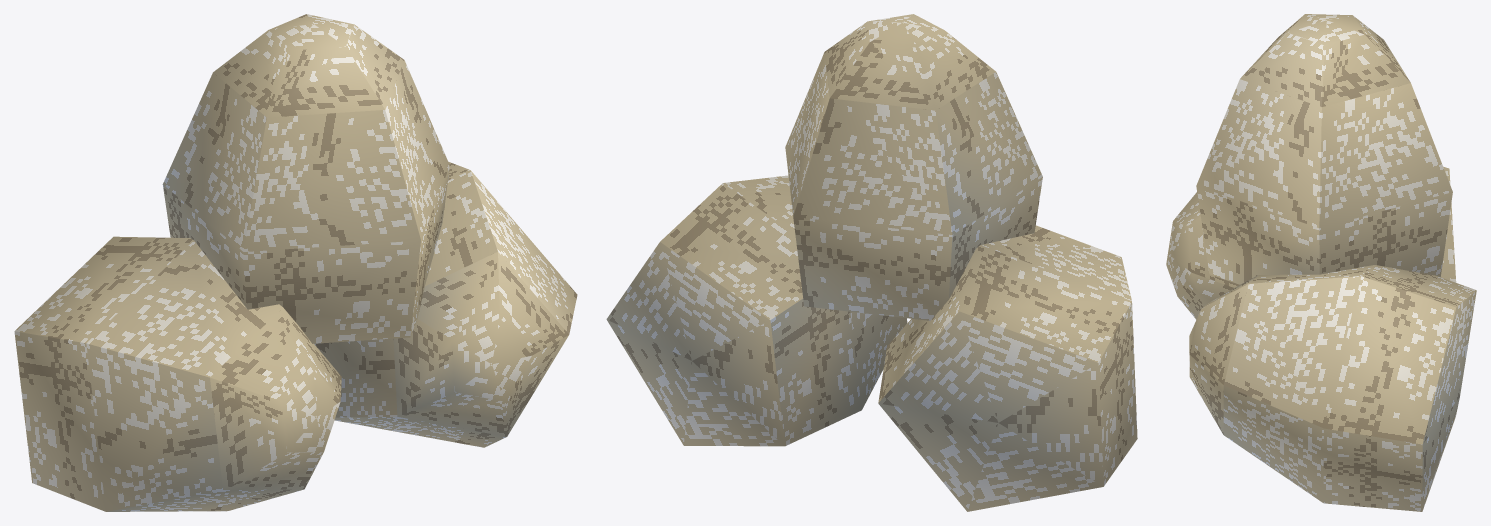
Rendered from mprop.sack__pile.glb.
The picture shows the model from 3 angles, left to right: view 1: azimuth 30°, elevation 25°; view 2: azimuth 150°, elevation 25°; view 3: azimuth 270°, elevation 25°; orthographic projection. The views are drawn at different scales.
Visible parts, largest first — view 1: kit_sacks; view 2: kit_sacks; view 3: kit_sacks.
Boxes of the visible parts, bbox=[...] form: kit_sacks: bbox=[14, 14, 577, 511]; kit_sacks: bbox=[606, 14, 1137, 511]; kit_sacks: bbox=[1166, 14, 1476, 511].
Size of the model in its own units: 1.19 by 1.01 by 0.6896.
Materials: 2 (2 with a texture image).
